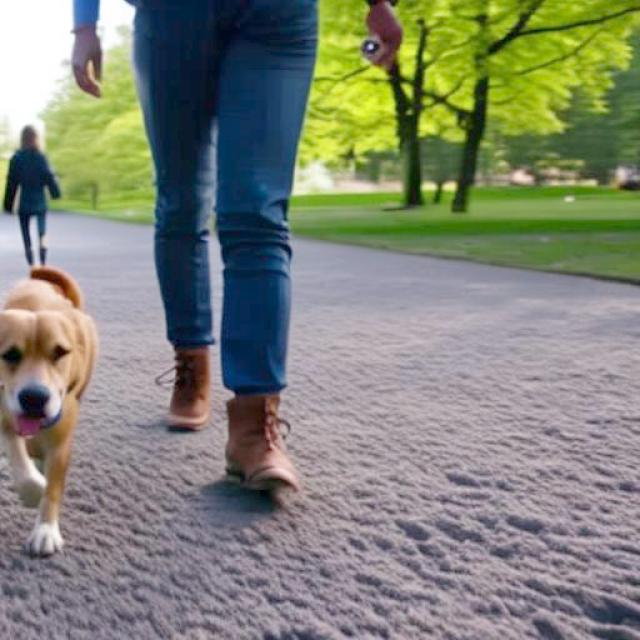Unleashed_Dog: (0, 0, 295, 562)
